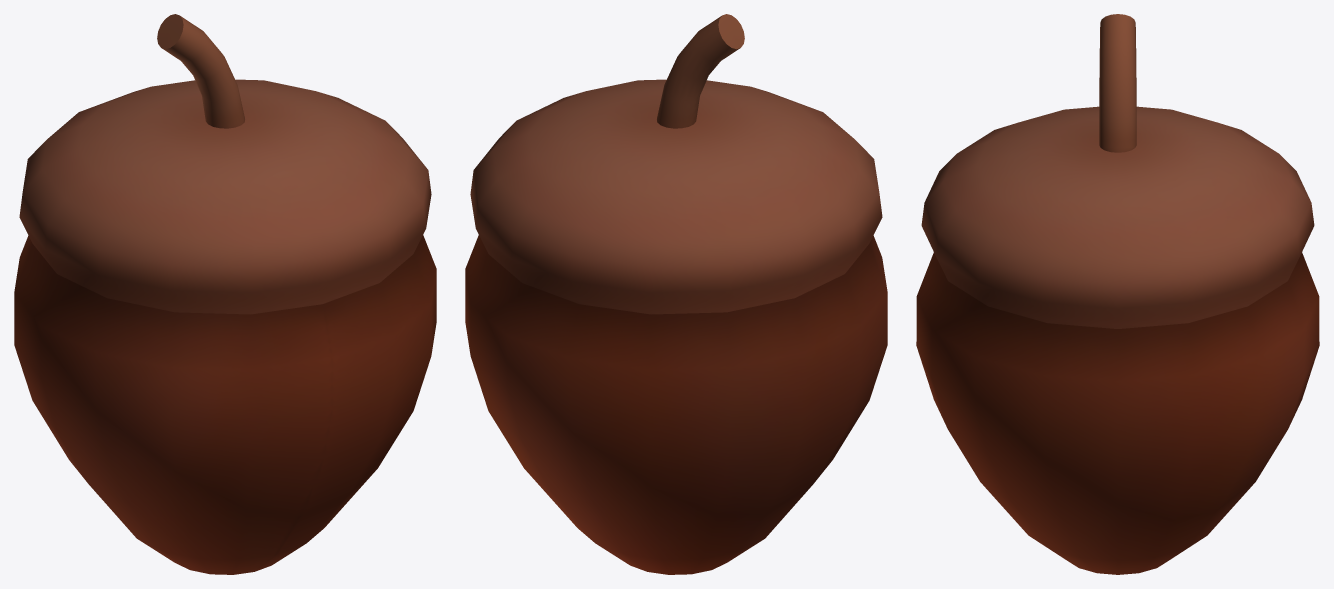
File: acorn.glb
3 views of the same model, side by side, from view 1: azimuth 30°, elevation 25°; view 2: azimuth 150°, elevation 25°; view 3: azimuth 270°, elevation 25° (orthographic). The views are drawn at different scales.
Visible parts, largest first — view 1: geometry_0; view 2: geometry_0; view 3: geometry_0.
Boxes of the visible parts, box(x1,y1,x2,y2) form: geometry_0: box(14, 14, 436, 574); geometry_0: box(465, 14, 887, 574); geometry_0: box(916, 14, 1319, 574).
Size of the model in its own units: 0.2621 by 0.3864 by 0.2621.
1 material, 1 textured.
